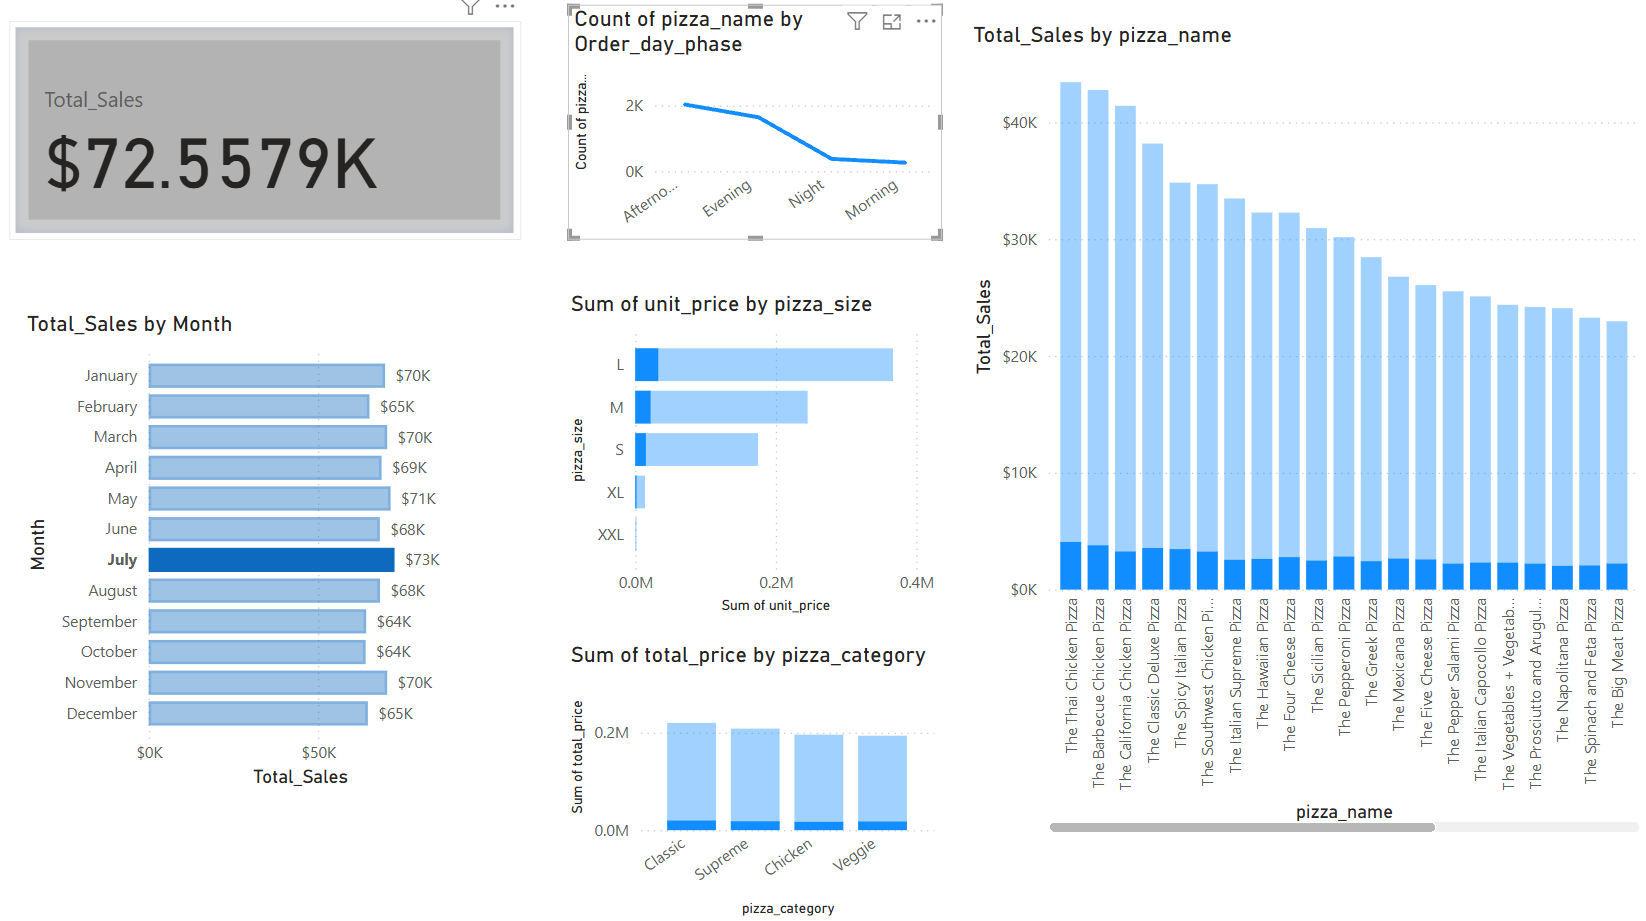

The dashboard page shown, as its layout file describes it:
{"tool":"powerbi","page":{"name":"Page 1","canvas":[1280,720],"ordinal":0},"visuals":[{"type":"cardVisual","fields":{"Data":["pizza_sales.Total_Spend"]},"box":[20.1,27.2,393.7,168.2],"z":0},{"type":"barChart","fields":{"Y":["pizza_sales.Total_Sales"],"Category":["pizza_sales.order_date.Variation.Date Hierarchy.Year","pizza_sales.order_date.Variation.Date Hierarchy.Quarter","pizza_sales.order_date.Variation.Date Hierarchy.Month","pizza_sales.order_date.Variation.Date Hierarchy.Day"]},"box":[29.2,248.7,351.4,372.6],"z":1000},{"type":"clusteredBarChart","fields":{"Category":["pizza_sales.pizza_size"],"Y":["Sum(pizza_sales.unit_price)"]},"box":[447.1,233.6,290,253.7],"z":2000},{"type":"lineChart","fields":{"Category":["pizza_sales.Order_day_phase"],"Y":["CountNonNull(pizza_sales.pizza_name)"]},"box":[450.1,14.1,287,181.2],"z":3000},{"type":"clusteredColumnChart","fields":{"Category":["pizza_sales.pizza_category"],"Y":["Sum(pizza_sales.total_price)"]},"box":[447.1,503.5,290,216.5],"z":4000},{"type":"columnChart","fields":{"Category":["pizza_sales.pizza_name","pizza_sales.order_date.Variation.Date Hierarchy.Year","pizza_sales.order_date.Variation.Date Hierarchy.Quarter","pizza_sales.order_date.Variation.Date Hierarchy.Month","pizza_sales.order_date.Variation.Date Hierarchy.Day"],"Y":["pizza_sales.Total_Sales"]},"box":[757.2,27.2,522.6,629.3],"z":5000}]}

Visuals, with their boxes in screenshot pixels (x1, y1, x2, y2), scaled from the page's 1280x720 canvas onto the 1646x921 screenshot:
cardVisual - pizza_sales.Total_Spend: 26 35 532 250
barChart - pizza_sales.Total_Sales x pizza_sales.order_date.Variation.Date Hierarchy.Year: 38 318 489 795
clusteredBarChart - pizza_sales.pizza_size x Sum(pizza_sales.unit_price): 575 299 948 623
lineChart - pizza_sales.Order_day_phase x CountNonNull(pizza_sales.pizza_name): 579 18 948 250
clusteredColumnChart - pizza_sales.pizza_category x Sum(pizza_sales.total_price): 575 644 948 920
columnChart - pizza_sales.pizza_name x pizza_sales.order_date.Variation.Date Hierarchy.Year: 974 35 1645 840
